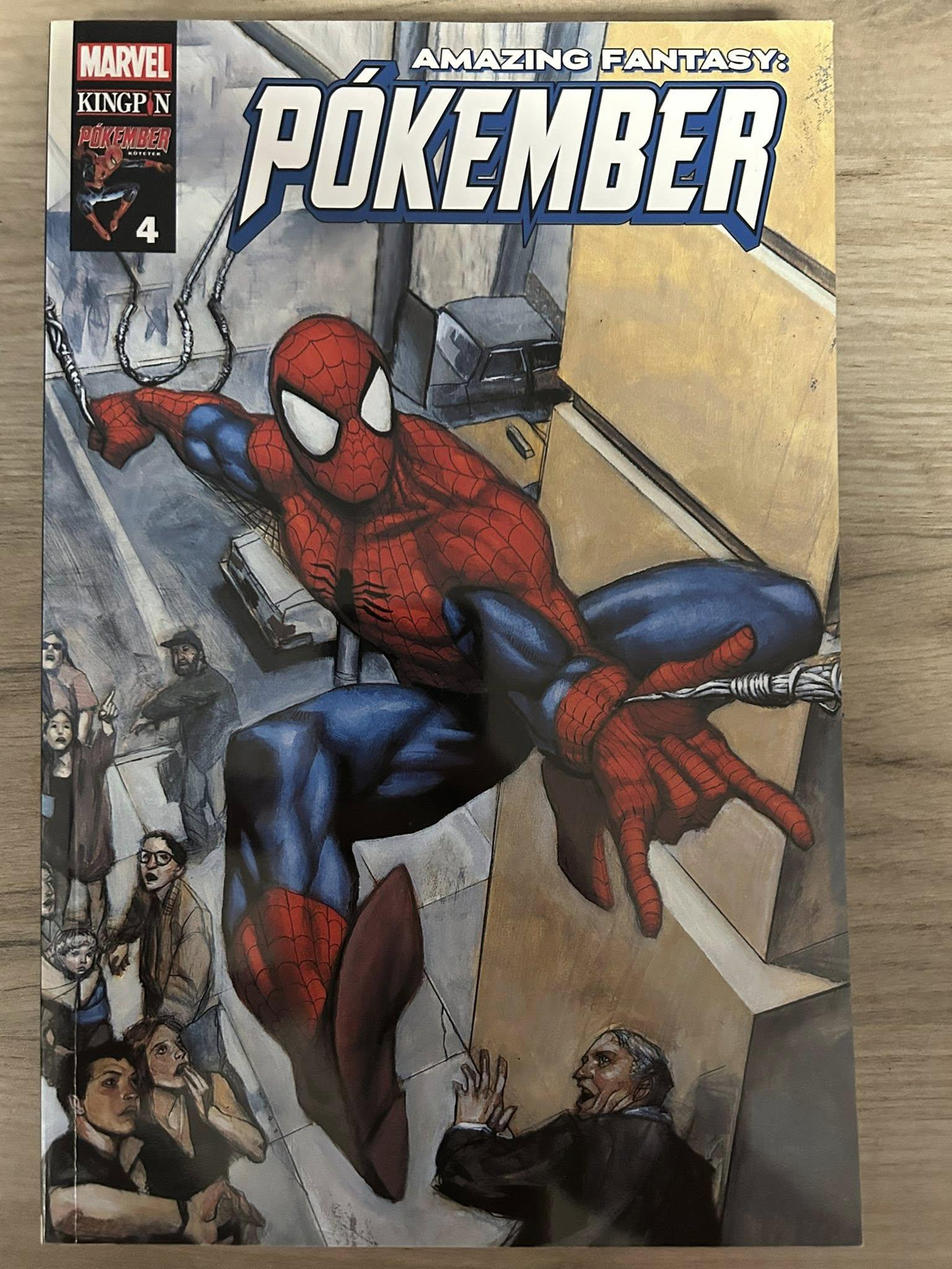comic: (42, 21, 859, 1245)
